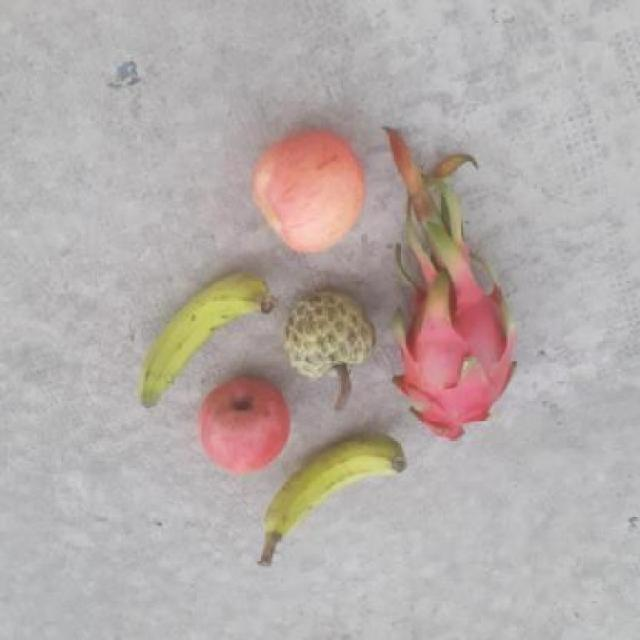apple: (250, 128, 372, 254), (191, 374, 291, 480)
banana: (119, 262, 272, 413), (265, 432, 409, 554)
dragon fruit: (389, 278, 522, 444)
sugar apple: (283, 288, 380, 383)
